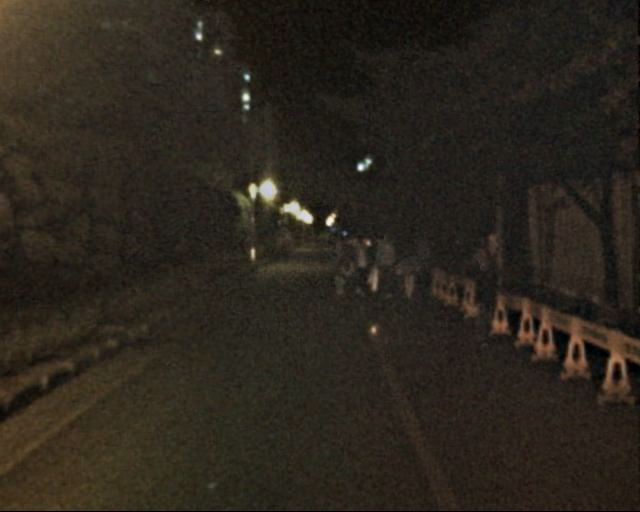person: (458, 247, 499, 347), (370, 230, 399, 300), (410, 234, 437, 299), (346, 234, 371, 296), (394, 243, 419, 305), (324, 236, 349, 297), (361, 240, 381, 288)
